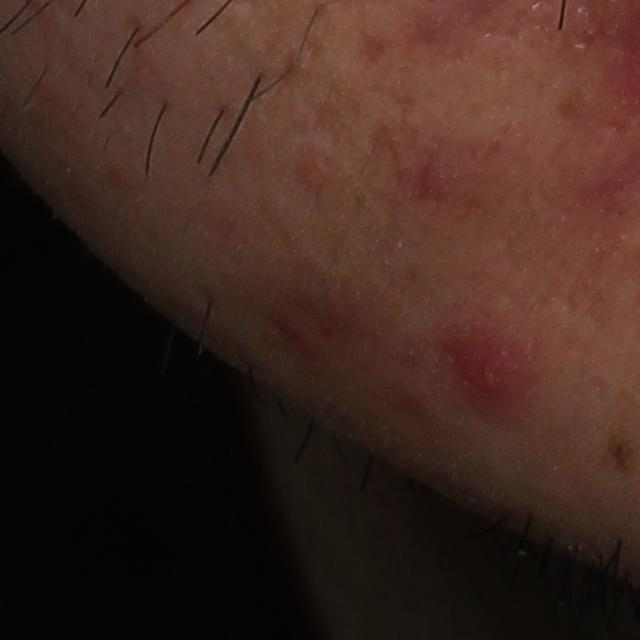papule: (447, 330, 523, 411), (299, 149, 344, 195)
